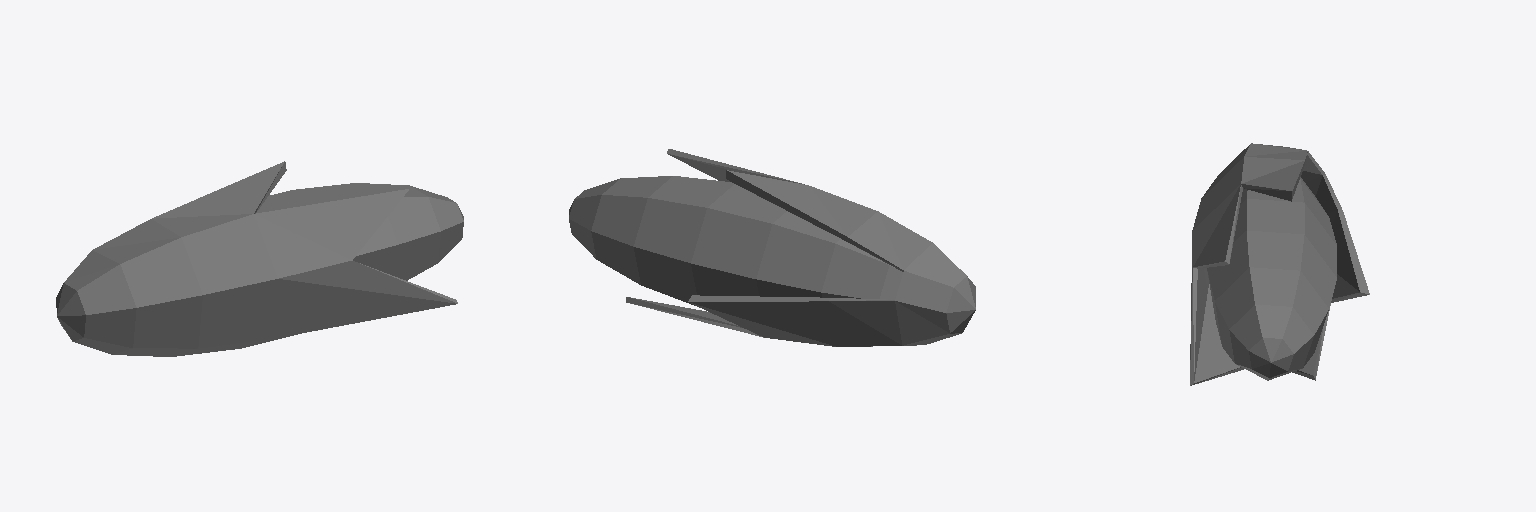
Rendered from corn.obj.
3 renders of one model, left to right at view 1: azimuth 30°, elevation 25°; view 2: azimuth 150°, elevation 25°; view 3: azimuth 270°, elevation 25°, orthographic.
Visible parts, largest first — view 1: Corn pSphere2, pSphere1 Corn; view 2: pSphere1 Corn, Corn pSphere2; view 3: pSphere1 Corn, Corn pSphere2.
Part boxes in pixels (left/top/right/bottom): Corn pSphere2: left=56, top=161, right=457, bottom=356; pSphere1 Corn: left=257, top=183, right=463, bottom=280; pSphere1 Corn: left=569, top=176, right=902, bottom=305; Corn pSphere2: left=626, top=149, right=975, bottom=346; pSphere1 Corn: left=1207, top=177, right=1336, bottom=380; Corn pSphere2: left=1190, top=143, right=1369, bottom=385.
Size of the model in its own units: 1 by 0.3856 by 0.3852.